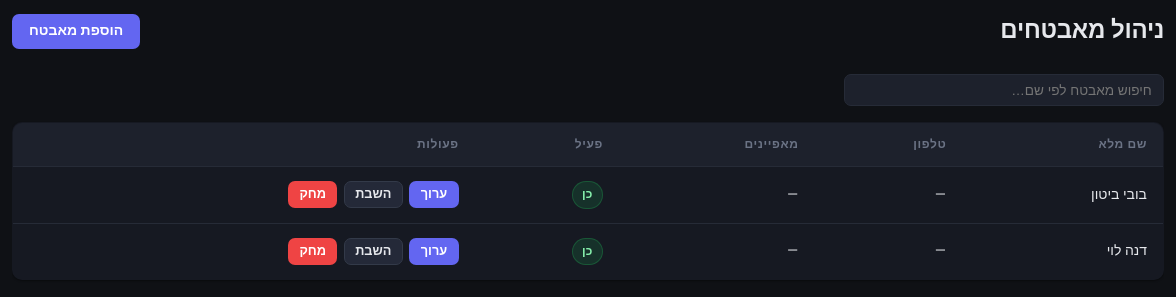
GuardsPage — search by name › filters the guard rows by name and shows a no-results notice
Expected: the text "בובי ביטון" is shown, [962,166,1164,223]
Expected: the text "דנה לוי" is shown, [962,223,1164,280]
Type "דנה" into the search field at (1004, 90), box [844,74,1164,106]
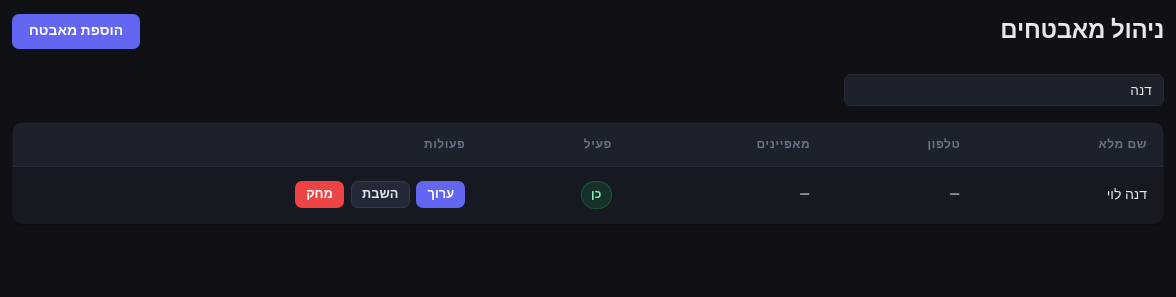
Expected: the text "דנה לוי" is shown, [976,166,1164,223]
Now the text "בובי ביטון" is gone
Replace the text in the search field with "רפאל" at (1004, 90), box [844,74,1164,106]
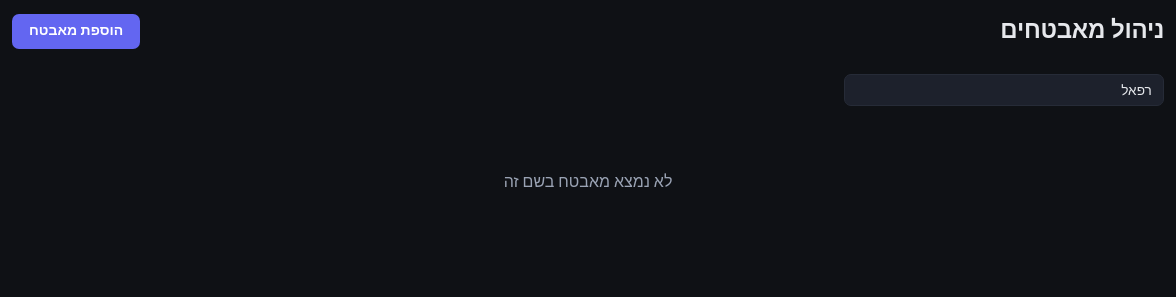
Now the text "לא נמצא מאבטח בשם זה" is shown, box [504,170,672,194]
